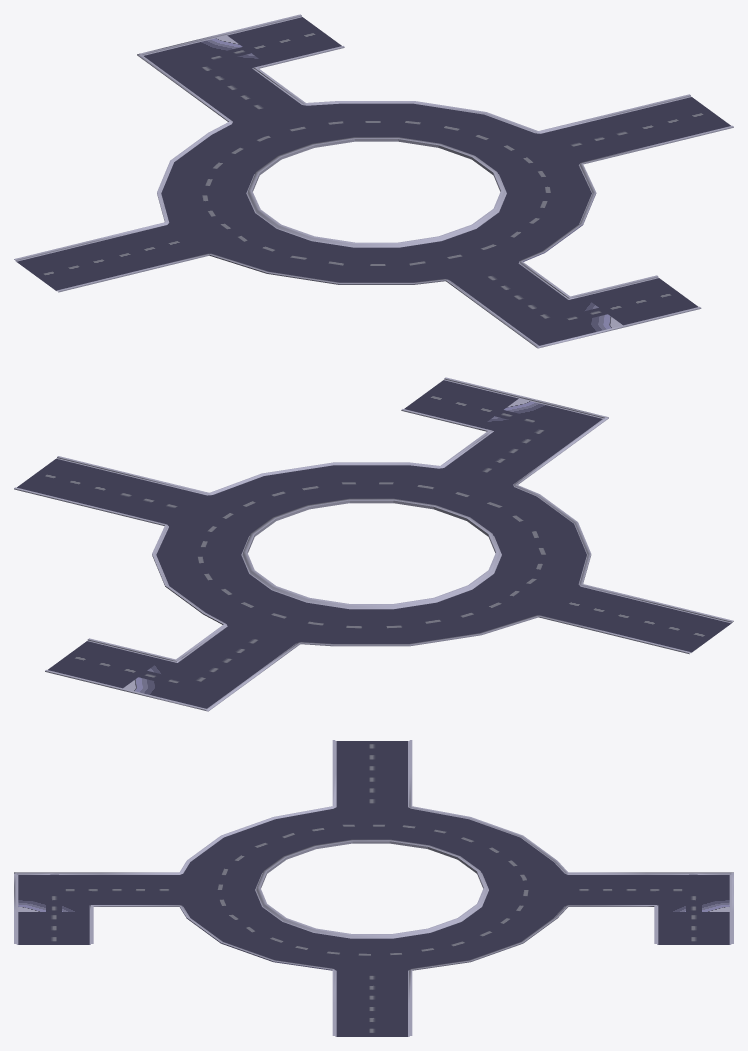
3 views of the same model, one above another, from view 1: azimuth 30°, elevation 25°; view 2: azimuth 150°, elevation 25°; view 3: azimuth 270°, elevation 25° (orthographic). The views are drawn at different scales.
Visible parts, largest first — view 1: Circle_2; view 2: Circle_2; view 3: Circle_2.
Boxes of the visible parts, x1,y1,x2,y2 form: Circle_2: (14, 14, 733, 348); Circle_2: (14, 377, 733, 711); Circle_2: (14, 740, 733, 1036).
Size of the model in its own units: 87.41 by 0.3291 by 89.84.
